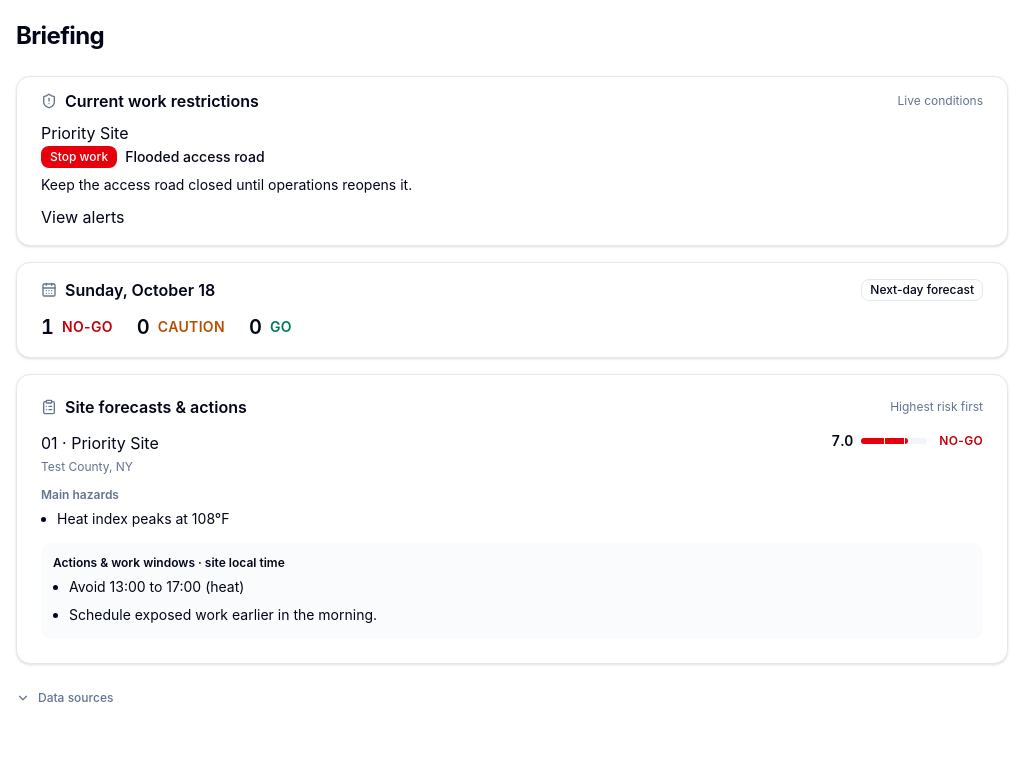
Test case: Briefing scope › shows explicit STOP_WORK for a non-lightning hazard and displays the supplied action without inventing sign-off rules
The width and height of the screenshot is (1024, 764).
Expected: the text "Stop work" is shown, 41,146 -> 117,168
Expected: the text "alert source:" is not shown
What coordinates should you click on to do the following:
click the heading "Data sources"
I would click on:
 (65, 698)
Its box is 16,690 -> 113,705.
(page scrolled)
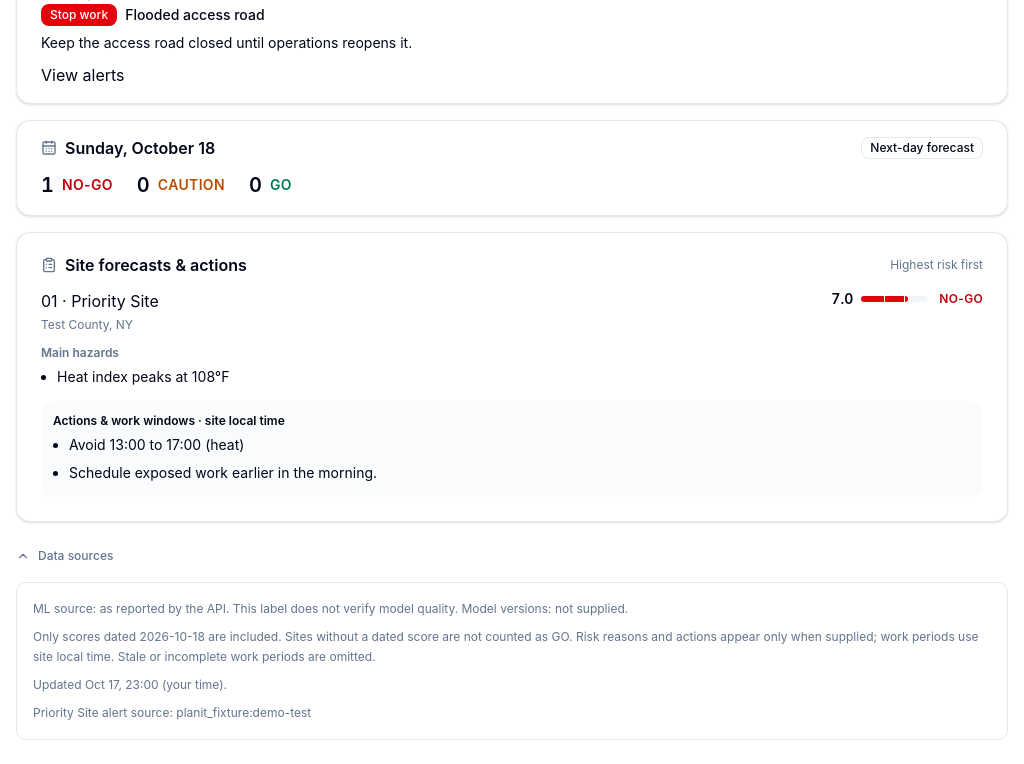
Expected: the text "Priority Site alert source: planit_fixture:demo-test" is shown, 33,705 -> 311,720
